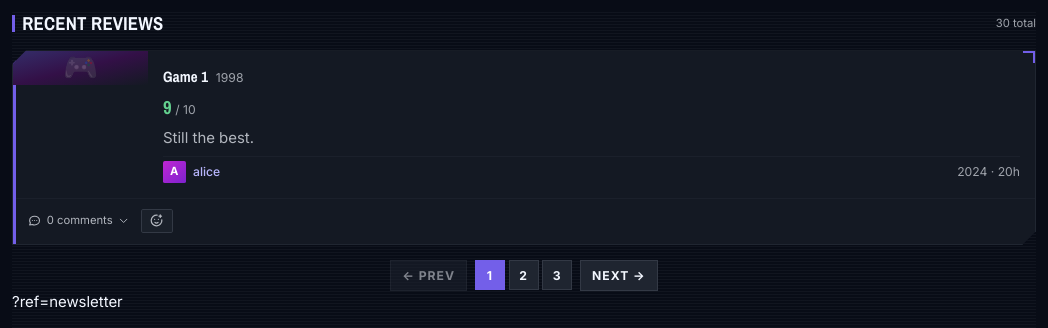
it: the recent reviews pagination › keeps unrelated query parameters when the page changes
Expected: the link "Game 1" is shown, [163,66,208,88]
What coordinates should you click on to do the following:
click the button "2"
I would click on:
 (524, 275)
Its box is [508,260,538,290].
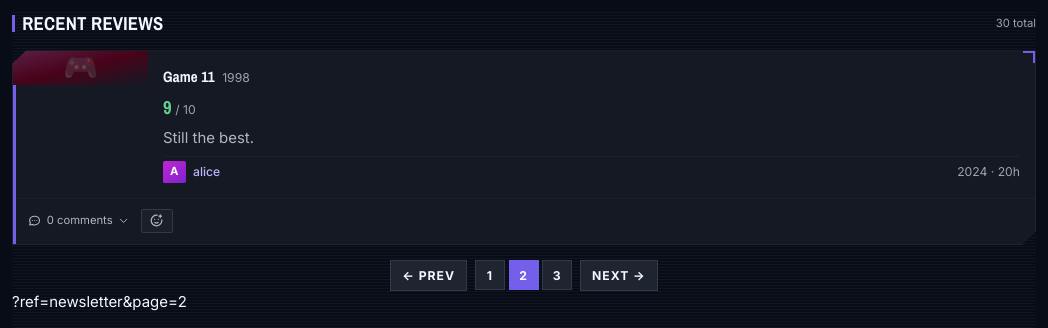
Expected: the link "Game 11" is shown, [163,66,215,88]
Expected: the text with test id "url" reads "?ref=newsletter&page=2", [12,292,187,311]
